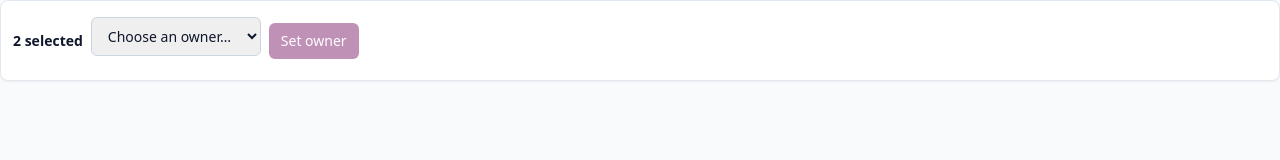
Scenario: bulk bar: appears with a selection, sends the chosen owner (or none), and reports skipped items
expect the text "2 selected" is shown: met, box [13, 30, 83, 50]
expect the button "Set owner" is disabled: met, box [269, 22, 359, 58]
Select "Vik" in the dropdown named "New owner" at (176, 36), box [91, 17, 261, 56]
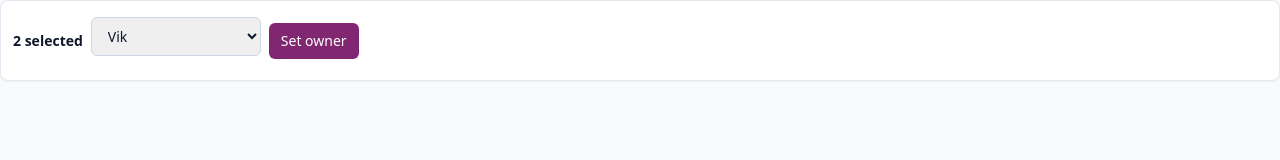
Click the button "Set owner".
click(314, 40)  # box [269, 22, 359, 58]
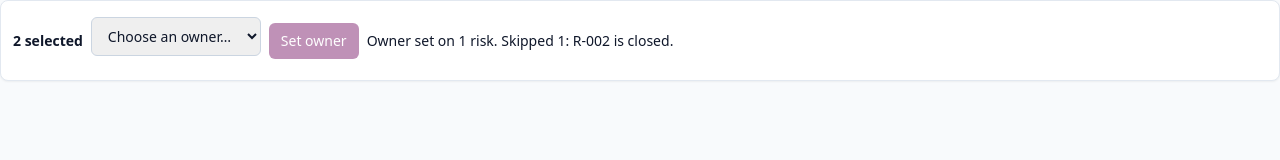
expect the message reads "Owner set on 1 risk. Skipped 1: R-002 is closed.": met, box [367, 30, 673, 50]
